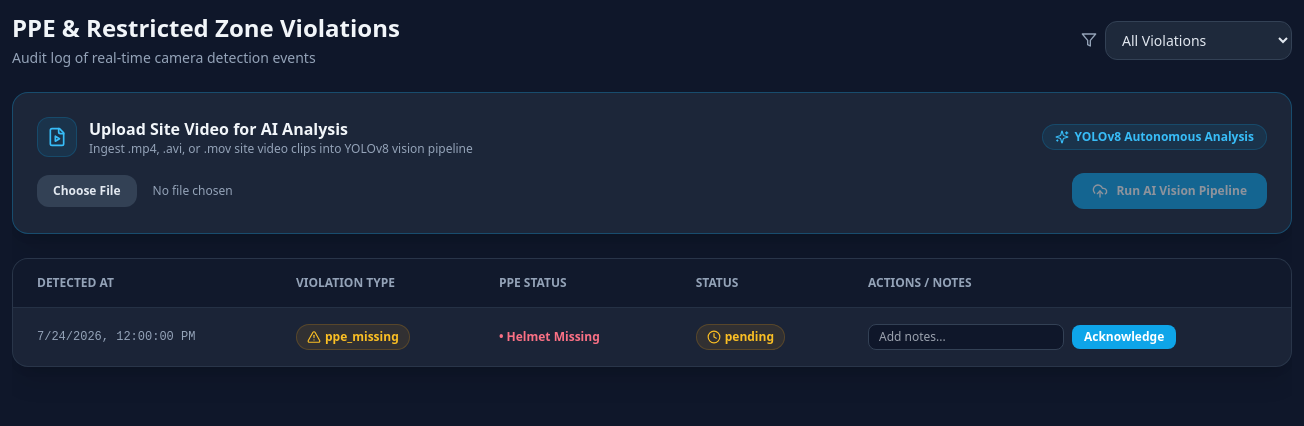
Test: Phase 5 Frontend Additions Integration & Edge Case Test Suite › 1. ViolationsPage - Renders real API response & Acknowledge 409 inline error
This screenshot has width=1304, height=426.
Expected: the text "ppe_missing" is shown, [296,324,410,350]
Expected: the element with test id "violation-status-badge-viol_01" reads "pending", [725,328,774,345]
Click the button with test id "acknowledge-btn-viol_01" at (1124, 337), box [1072,325,1176,349]
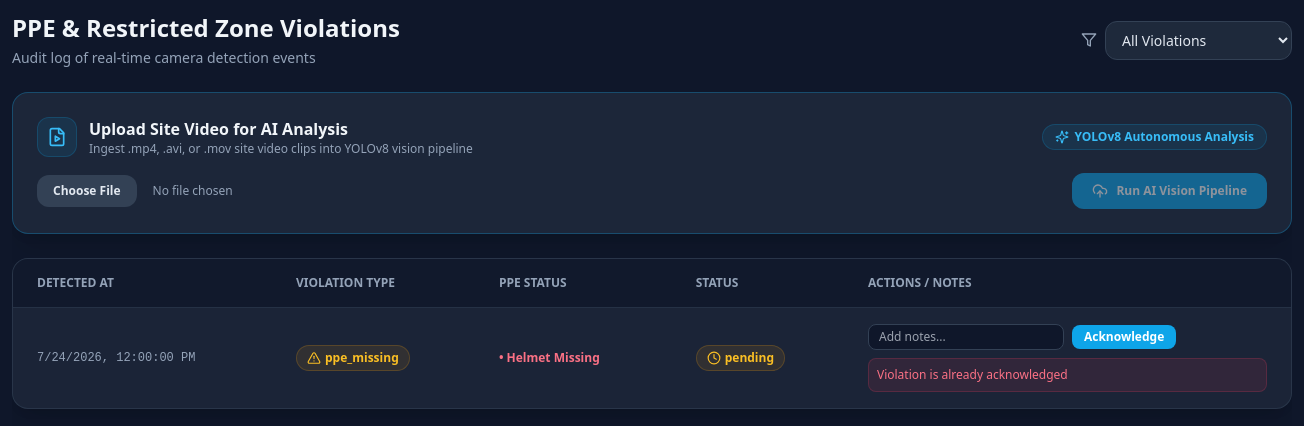
Expected: the text "Violation is already acknowledged" is shown, [868,358,1267,392]
Expected: the text with test id "ack-error-viol_01" reads "Violation is already acknowledged", [877,366,1068,383]
